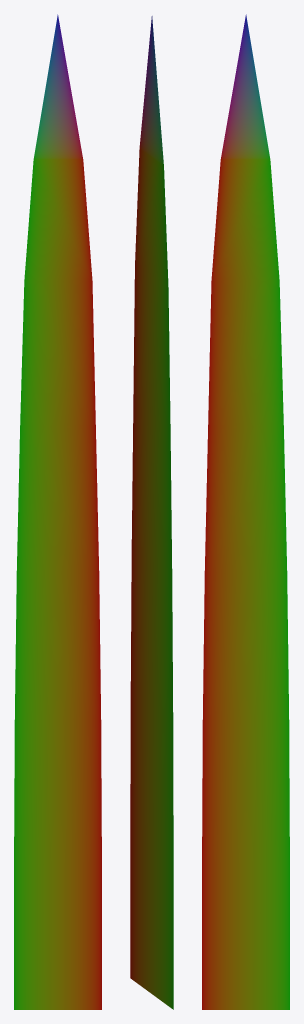
File: blade_lod0.fbx
3 views of the same model, side by side, from view 1: azimuth 90°, elevation 25°; view 2: azimuth 210°, elevation 25°; view 3: azimuth 270°, elevation 25° (orthographic).
Visible parts, largest first — view 1: LOD0; view 2: LOD0; view 3: LOD0.
Boxes of the visible parts, x1=… form: LOD0: x1=14, y1=14, x2=101, y2=1009; LOD0: x1=130, y1=16, x2=173, y2=1009; LOD0: x1=202, y1=14, x2=289, y2=1009.
Size of the model in its own units: 0 by 4 by 49.96.
